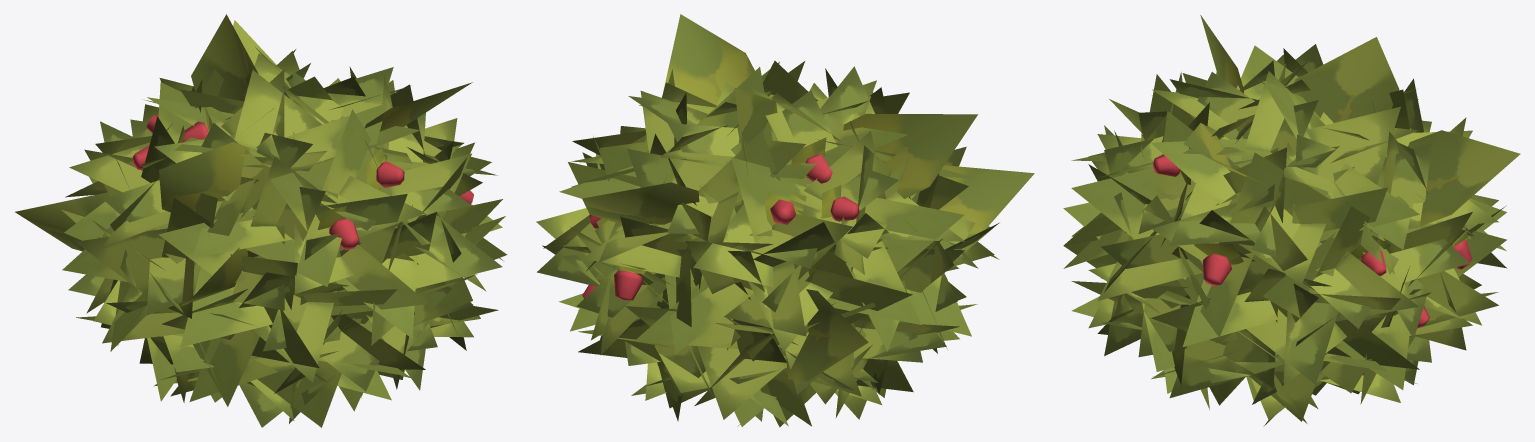
The model's file is Raspberry_Bush_2b.glb.
3 renders of one model, left to right at view 1: azimuth 30°, elevation 25°; view 2: azimuth 150°, elevation 25°; view 3: azimuth 270°, elevation 25°, orthographic.
Parts seen in each view (by area): view 1: Raspberry_Bush_2b; view 2: Raspberry_Bush_2b; view 3: Raspberry_Bush_2b.
Part boxes in pixels (bbox=[...]): Raspberry_Bush_2b: bbox=[15, 14, 507, 427]; Raspberry_Bush_2b: bbox=[536, 14, 1034, 427]; Raspberry_Bush_2b: bbox=[1063, 15, 1520, 426].
Size of the model in its own units: 1.16 by 1.01 by 1.17.
Materials: 1 (1 with a texture image).
